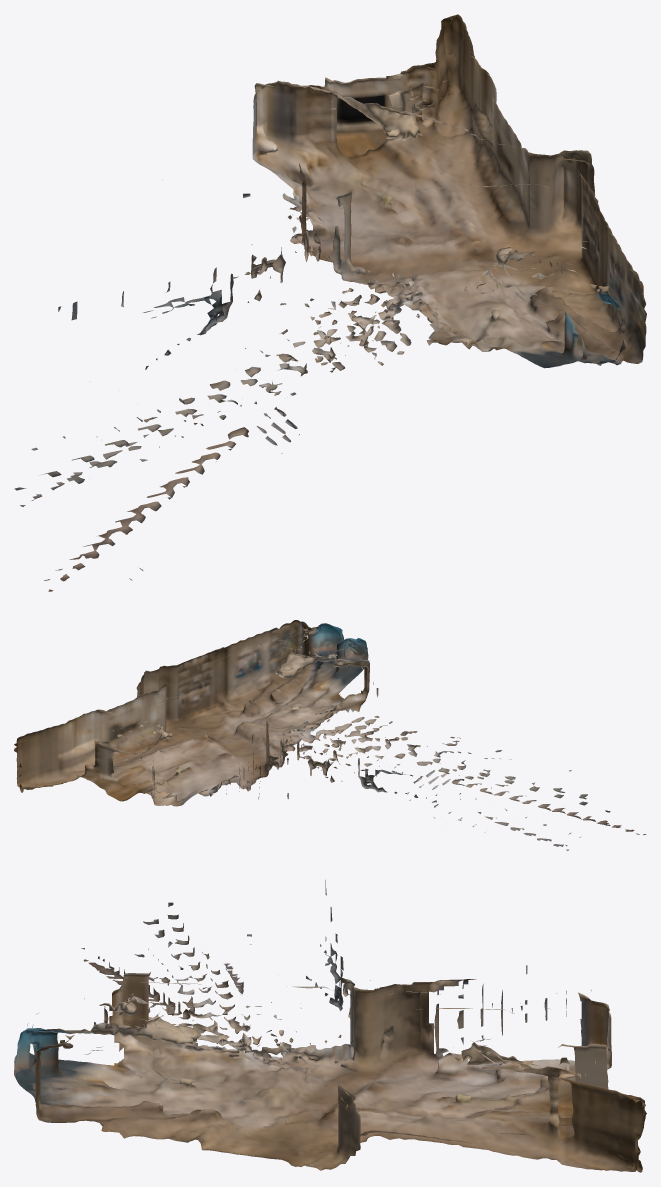
File: Grand Luxury Penthouse Living Room_collider.glb
3 renders of one model, top to bottom at view 1: azimuth 30°, elevation 25°; view 2: azimuth 150°, elevation 25°; view 3: azimuth 270°, elevation 25°, orthographic. The views are drawn at different scales.
Visible parts, largest first — view 1: world; view 2: world; view 3: world.
Part boxes in pixels (bbox=[...]): world: bbox=[14, 14, 646, 591]; world: bbox=[14, 620, 646, 850]; world: bbox=[14, 880, 646, 1172].
Size of the model in its own units: 25.69 by 7.56 by 21.16.
